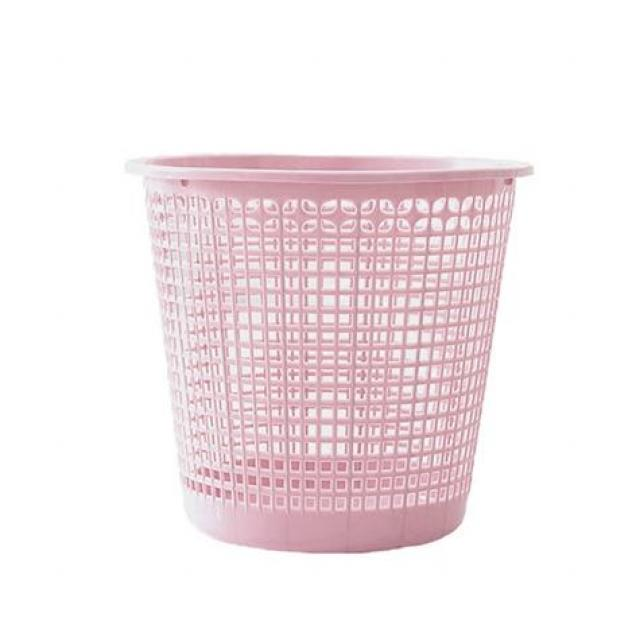Dustbin: (121, 146, 538, 558)
